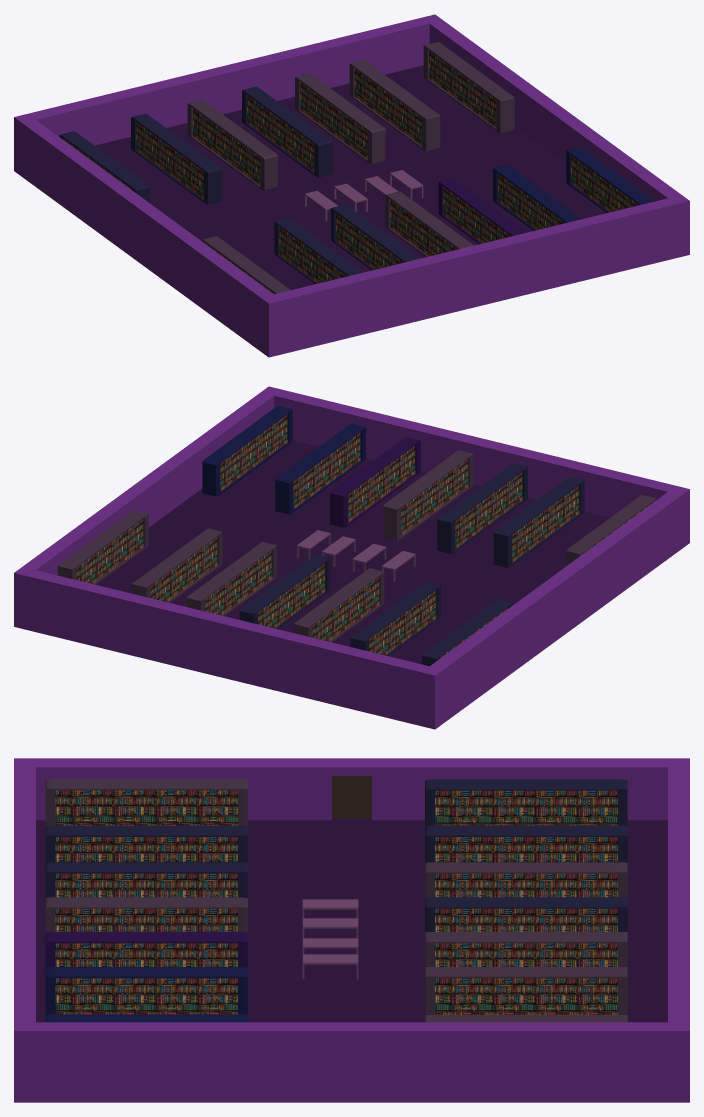
The model's file is Bib-Game Jam.fbx.
3 renders of one model, top to bottom at view 1: azimuth 30°, elevation 25°; view 2: azimuth 150°, elevation 25°; view 3: azimuth 270°, elevation 25°, orthographic. The views are drawn at different scales.
Visible parts, largest first — view 1: Cube, Cube.005, Cube.015, Cube.001, Cube.004, Cube.003, Cube.002, Cube.008, Cube.009, Cube.016, Cube.006, Cube.007 (+4 smaller); view 2: Cube, Cube.008, Cube.009, Cube.010, Cube.007, Cube.016, Cube.006, Cube.015, Cube.001, Cube.005, Cube.002, Cube.004 (+4 smaller); view 3: Cube, Cube.005, Cube.010, Cube.014, Cube.012, Cube.008, Cube.003, Cube.007, Cube.009, Cube.002, Cube.004, Cube.001 (+4 smaller).
Boxes of the visible parts, box(x1,y1,x2,y2) form: Cube: box(14, 14, 689, 357); Cube.005: box(349, 60, 440, 151); Cube.015: box(423, 42, 514, 133); Cube.001: box(242, 86, 332, 177); Cube.004: box(295, 73, 385, 164); Cube.003: box(131, 113, 221, 204); Cube.002: box(187, 100, 277, 190); Cube.008: box(274, 218, 363, 284); Cube.009: box(438, 178, 527, 244); Cube.016: box(566, 147, 654, 212); Cube.006: box(385, 191, 473, 257); Cube.007: box(331, 204, 419, 270); Cube: box(14, 386, 689, 729); Cube.008: box(493, 477, 584, 568); Cube.009: box(330, 437, 420, 527); Cube.010: box(275, 423, 365, 514); Cube.007: box(437, 463, 527, 553); Cube.016: box(202, 406, 292, 496); Cube.006: box(383, 450, 473, 540); Cube.015: box(57, 510, 148, 584); Cube.001: box(239, 555, 330, 629); Cube.005: box(132, 528, 222, 602); Cube.002: box(294, 568, 384, 642); Cube.004: box(186, 542, 276, 616); Cube: box(14, 758, 689, 1102); Cube.005: box(425, 967, 627, 1015); Cube.010: box(45, 967, 247, 1015); Cube.014: box(425, 779, 627, 826); Cube.012: box(45, 779, 247, 825); Cube.008: box(45, 825, 247, 862); Cube.003: box(425, 825, 627, 863); Cube.007: box(45, 862, 247, 898); Cube.009: box(45, 931, 247, 967); Cube.002: box(425, 862, 627, 898); Cube.004: box(425, 932, 627, 967); Cube.001: box(425, 897, 627, 932).
Bounding box in the file's own units: 3297 × 403 × 3456.
9 materials, 1 textured.
